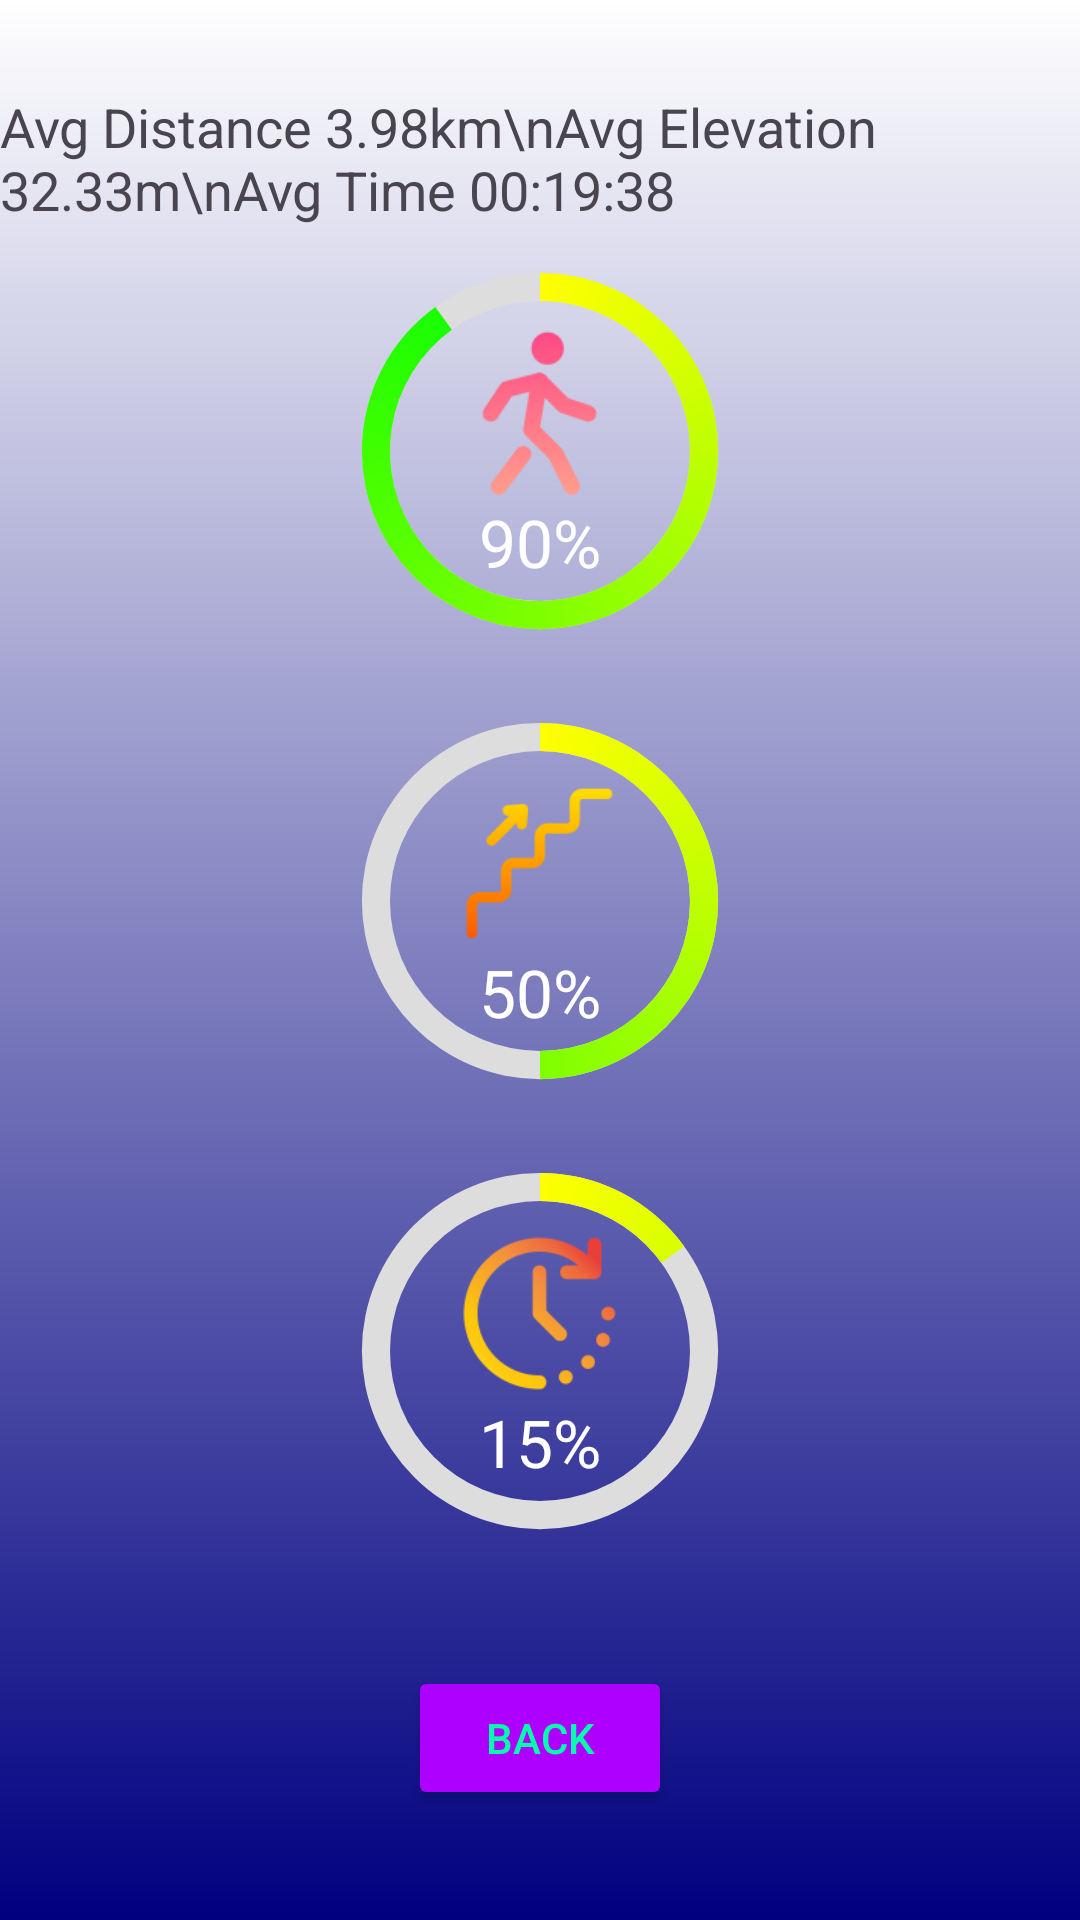

Icon click points for this 1080w x 1920h phone screenshot, format point (x, y):
elevation: point (539, 863)
time: point (539, 1316)
walking: point (539, 406)
